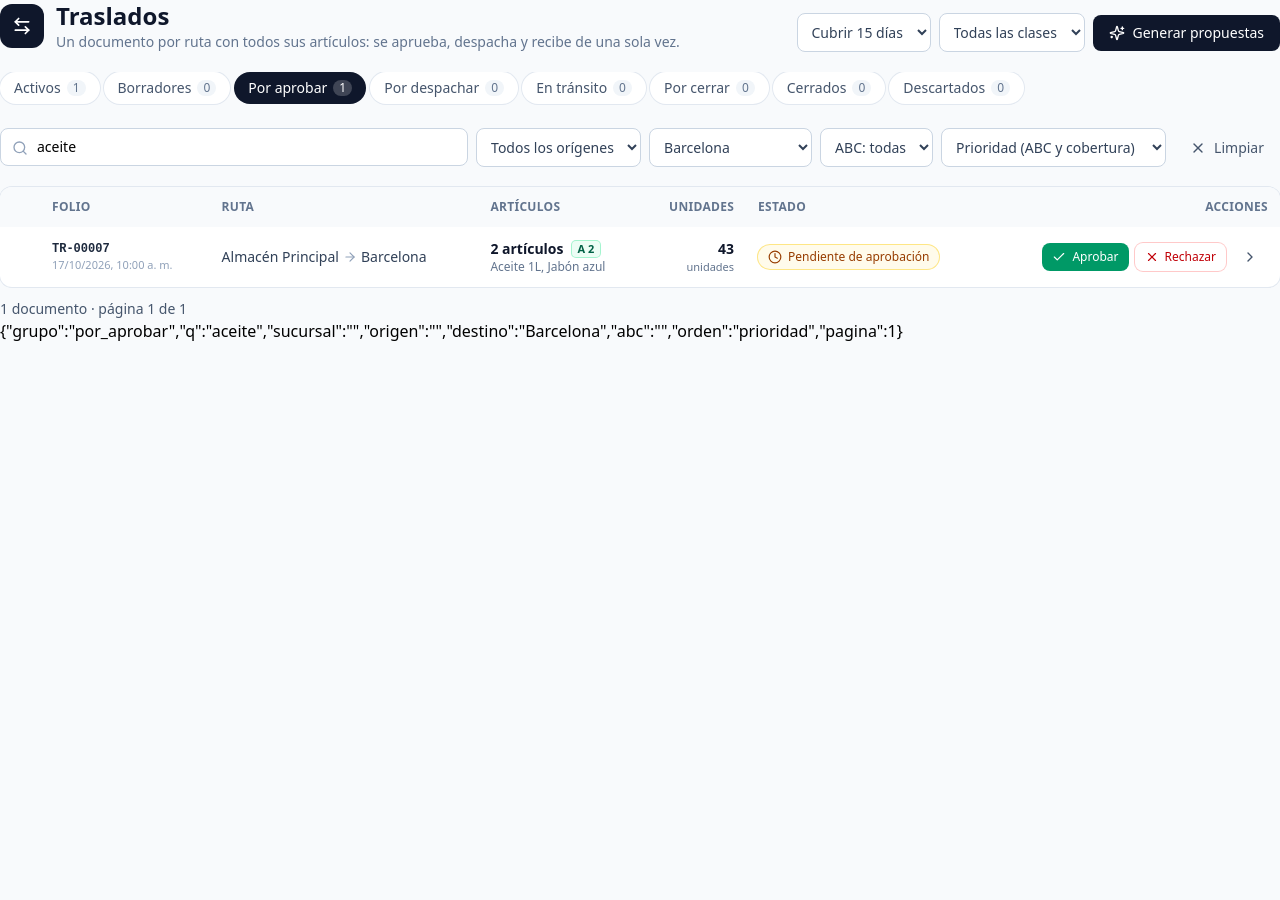
Test case: Bandeja de traslados › rechazar exige un motivo antes de enviar la solicitud
Click the button "Rechazar": (1180, 257) [1134, 243, 1226, 271]
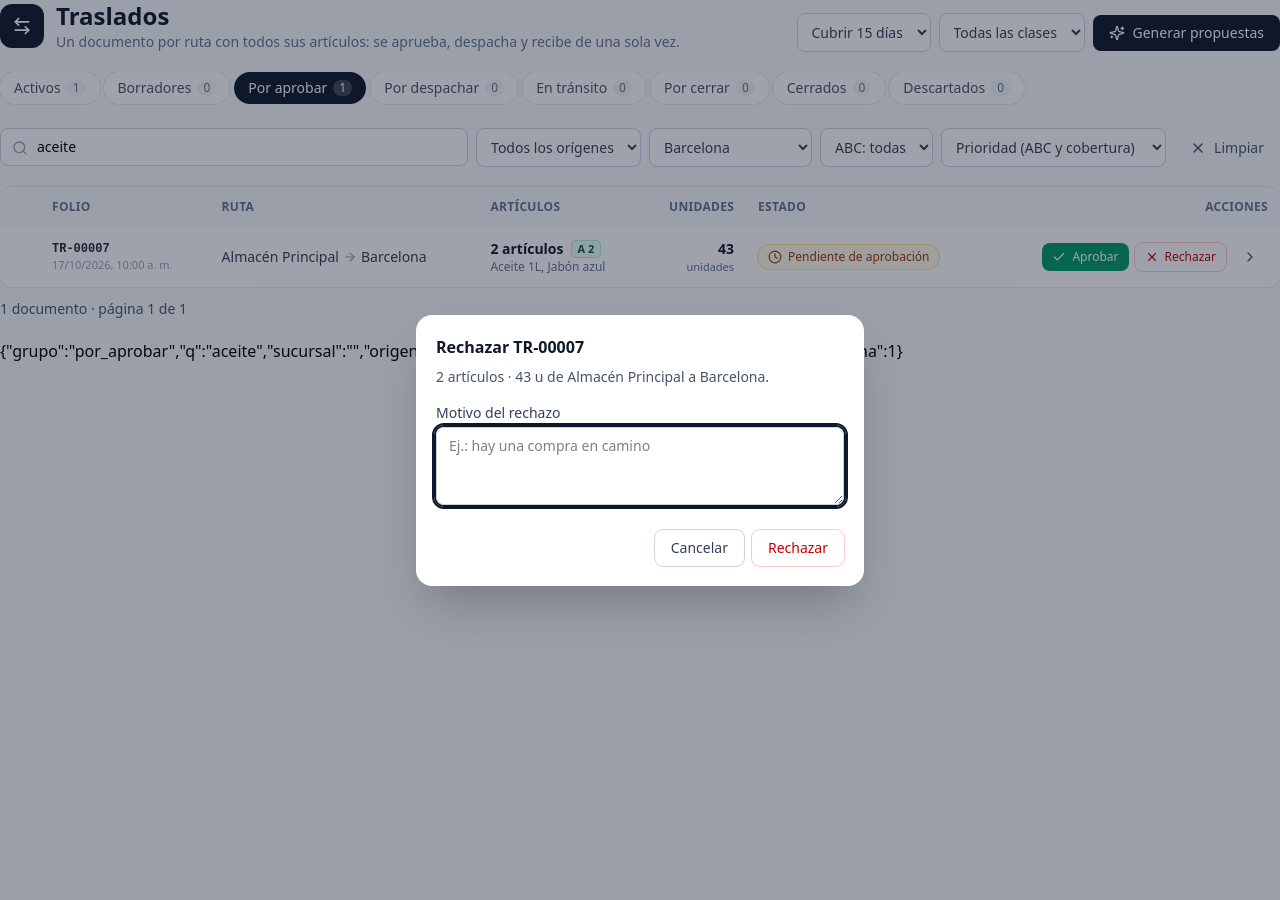
Click the button "Rechazar": (798, 548) [752, 530, 844, 566]
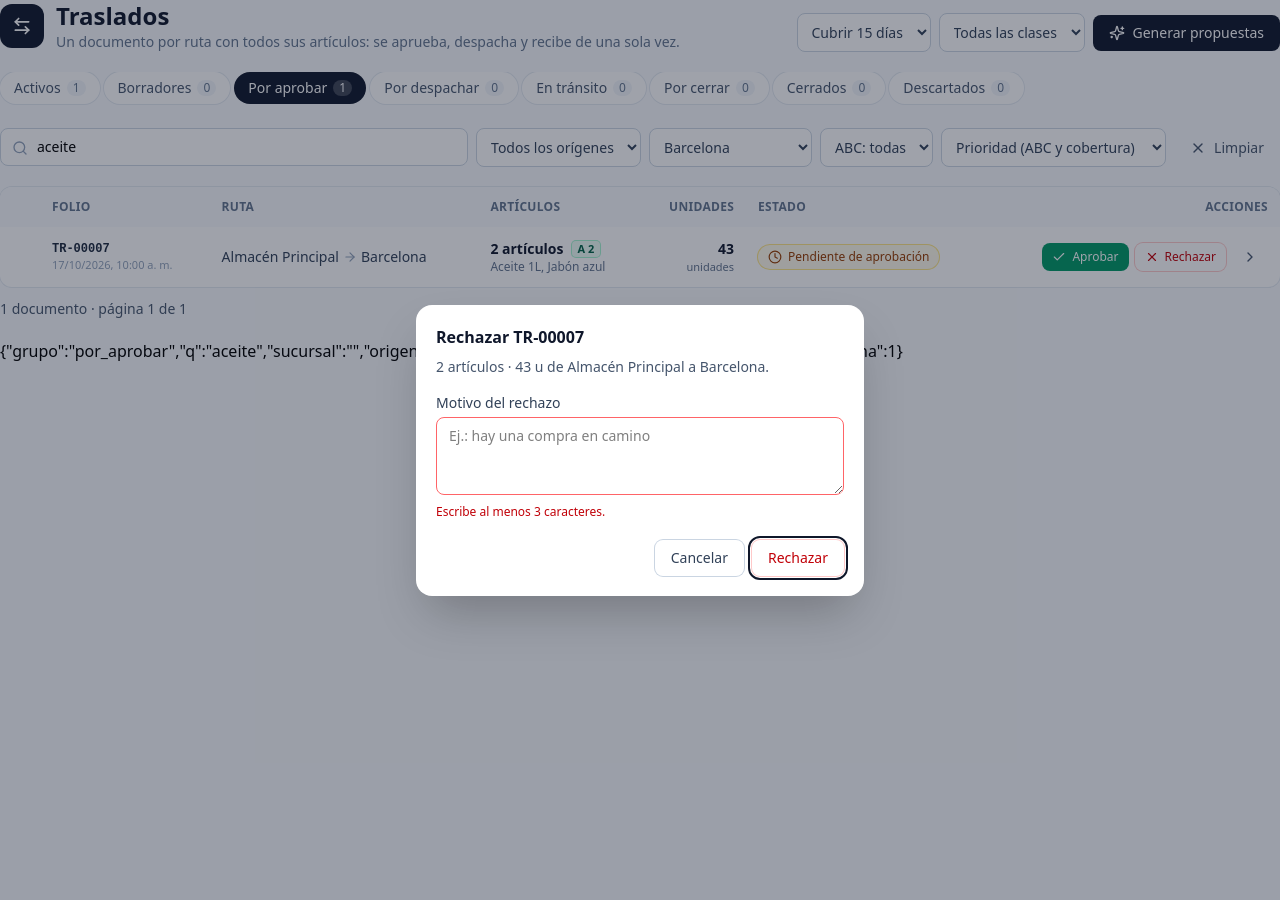
Expected: the text "Escribe al menos 3 caracteres." is shown, [436, 502, 605, 520]
In the text box: (640, 456) [436, 416, 844, 494], type "Hay compra en camino"
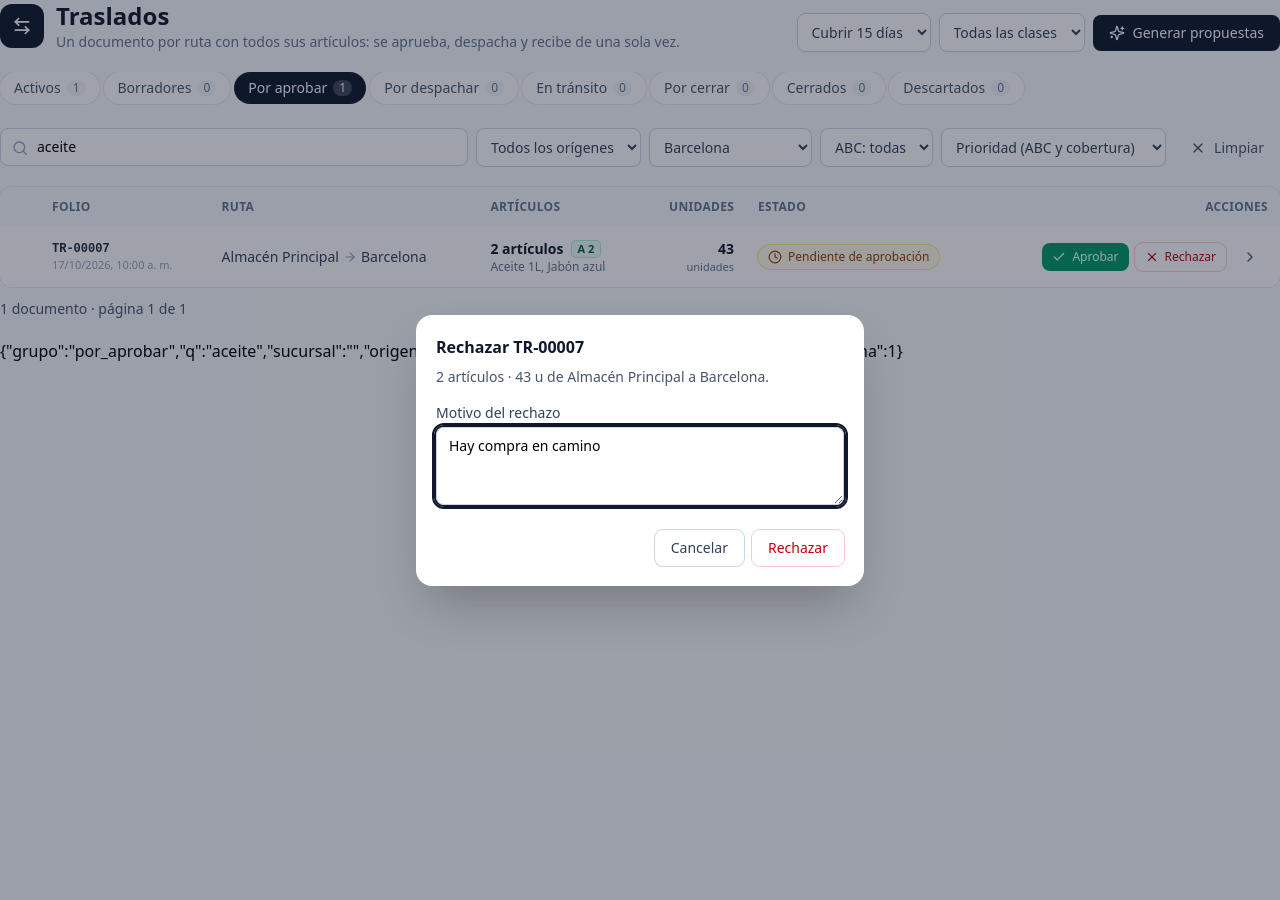
Click the button "Rechazar": (798, 548) [752, 530, 844, 566]
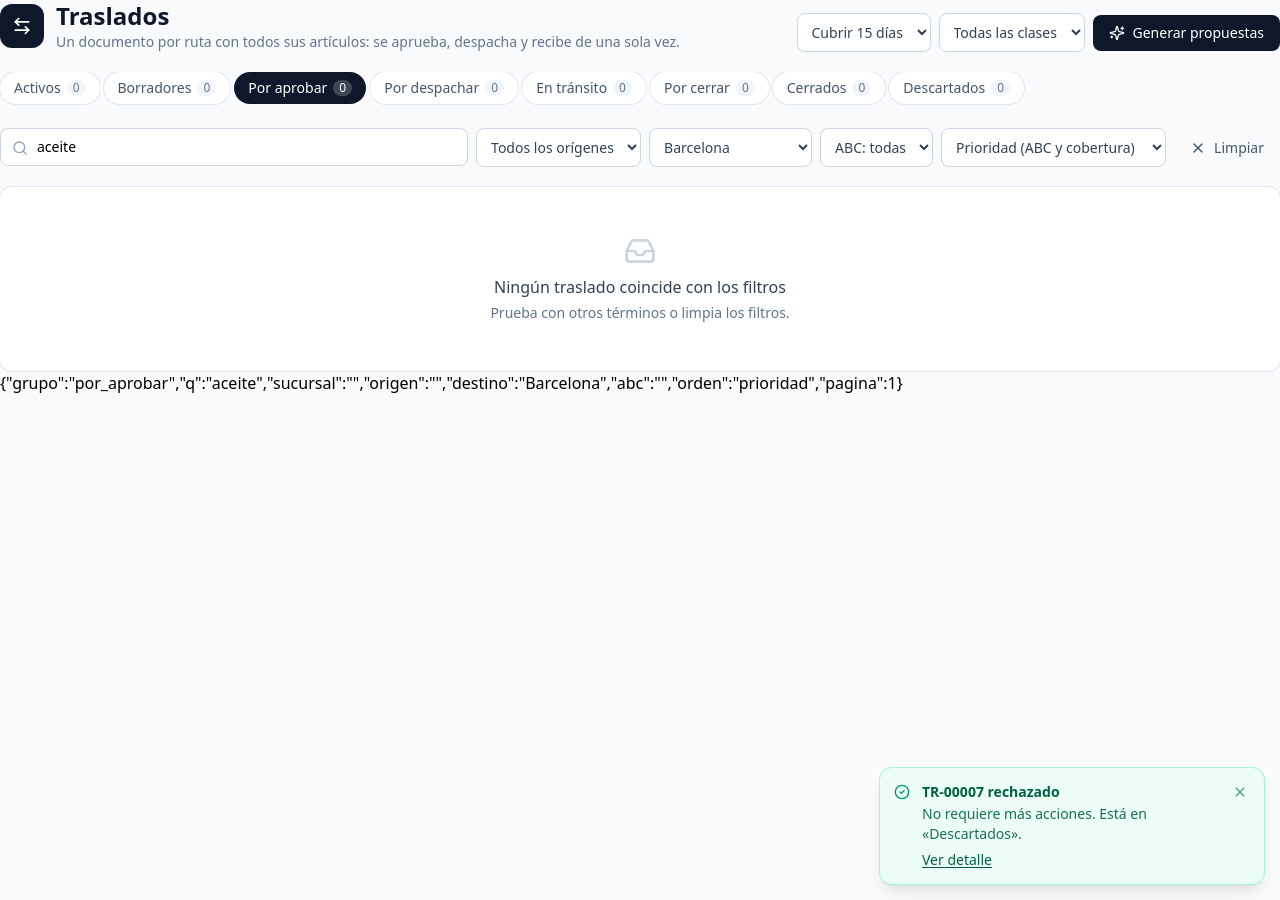
Expected: the dialog is gone
